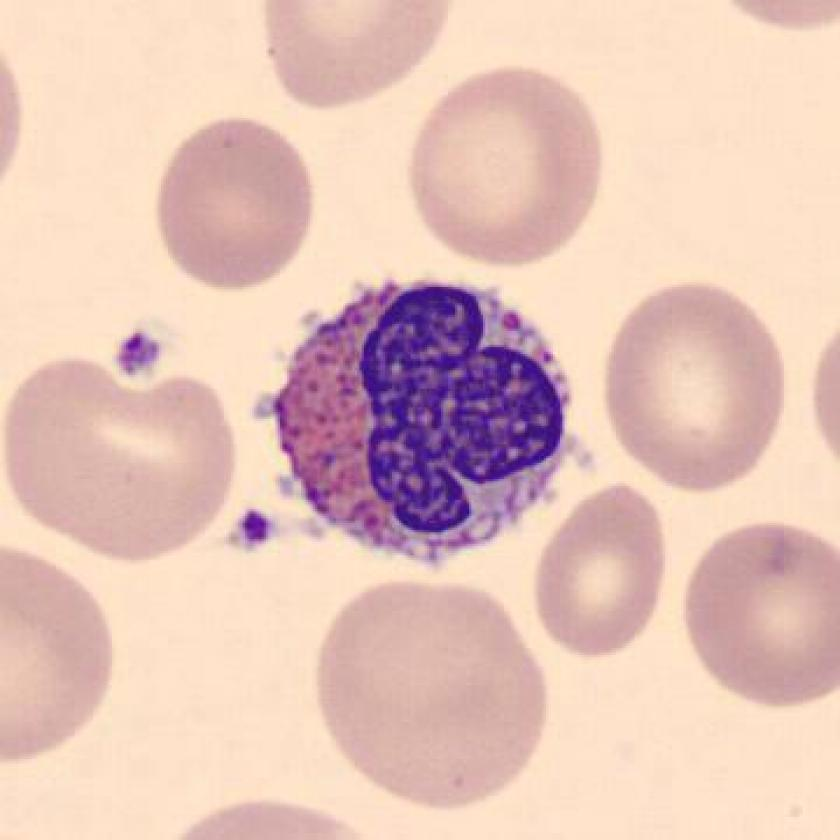eosinophil: (267, 265, 594, 584)
